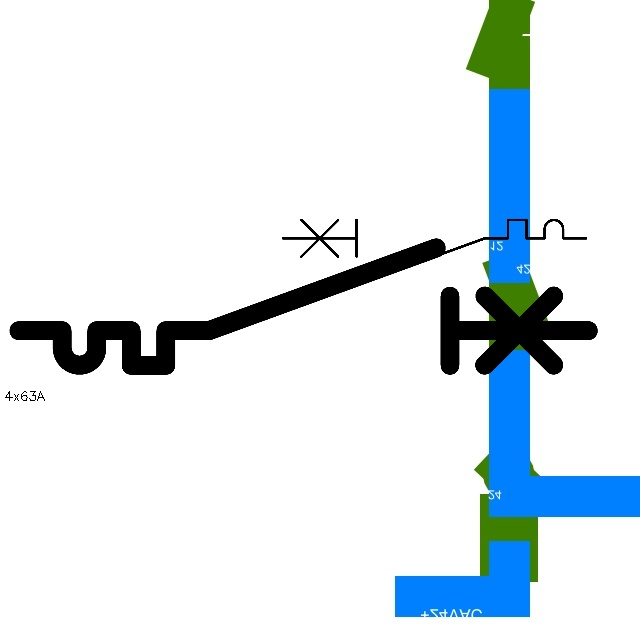interruptor_termomagnetico: (4, 233, 603, 380), (275, 212, 594, 290)
